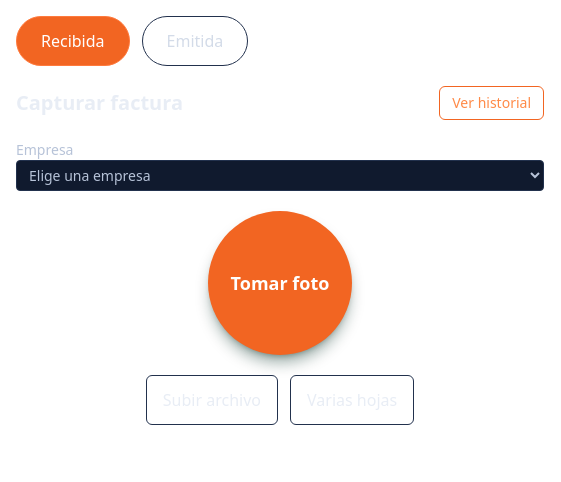
Test: CaptureScreen (S6.11) › C2: tenant_admin no abre la cámara hasta elegir la empresa autorizada
Step 1. Click the button "Tomar foto" → (280, 283), box [208,211,352,355]
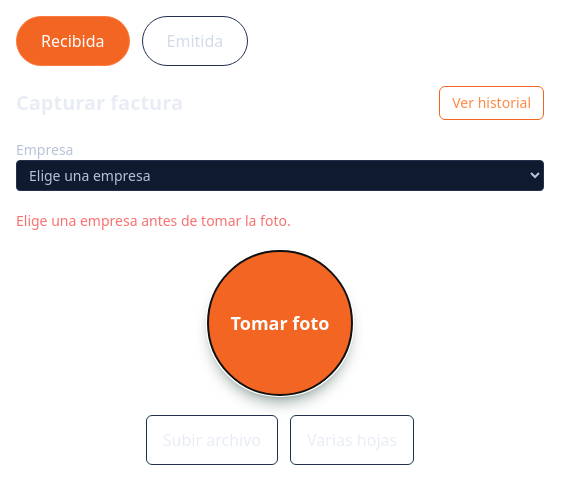
Expected: the message shows "Elige una empresa", [16,211,291,230]
